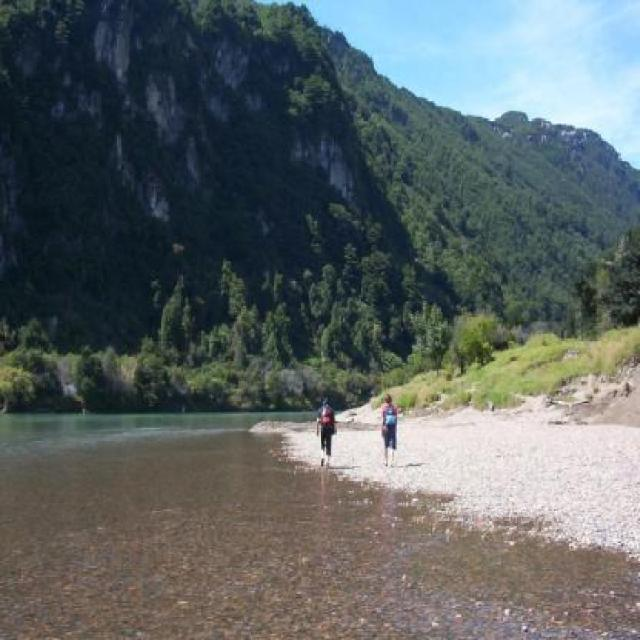backpack: (318, 406, 332, 431), (383, 405, 397, 429)
